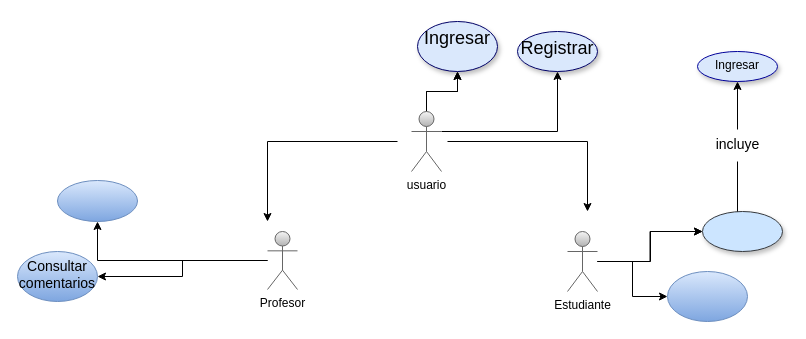
Image size: 806x339. Some labels were removed from this diagram. The centre of each missing label's shape, as x and y in pixels:
"Consulta" belongs at (x=743, y=232).
"Consultar aportes" belongs at (x=97, y=201).
"Realizar comentarios" belongs at (x=707, y=296).
